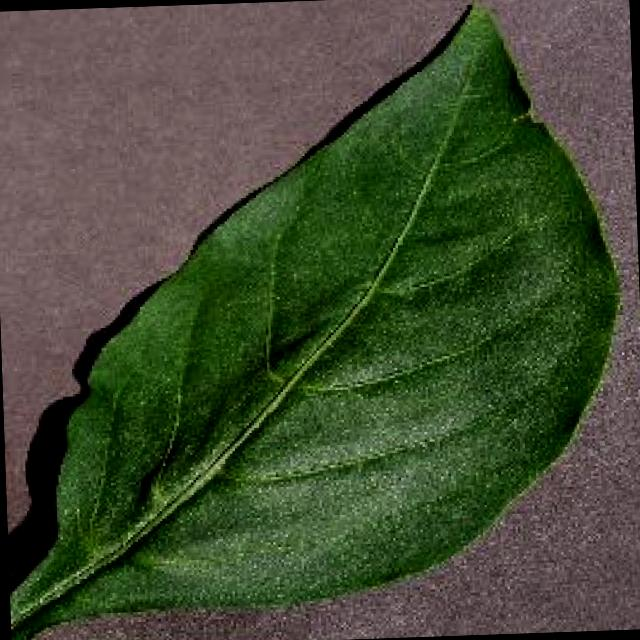Leaf: (4, 0, 630, 633)
